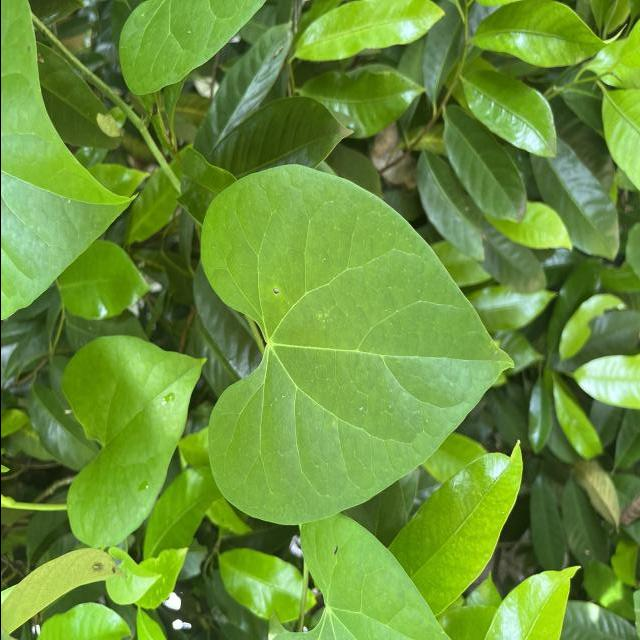Tinospora cordifolia: (193, 155, 519, 529)
